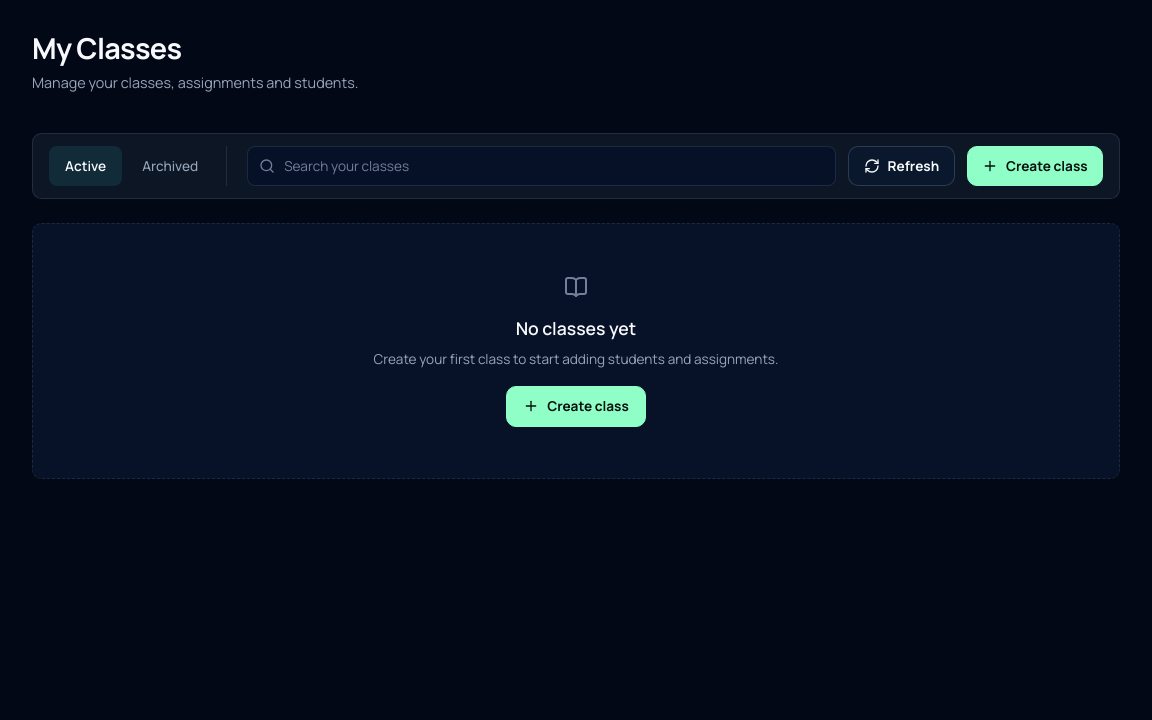
Test: teacher class creation › keeps the dialog open and presents API errors
Click the 1st button "Create class" at [1035, 166], box top-left (967, 146), bottom-right (1103, 186)
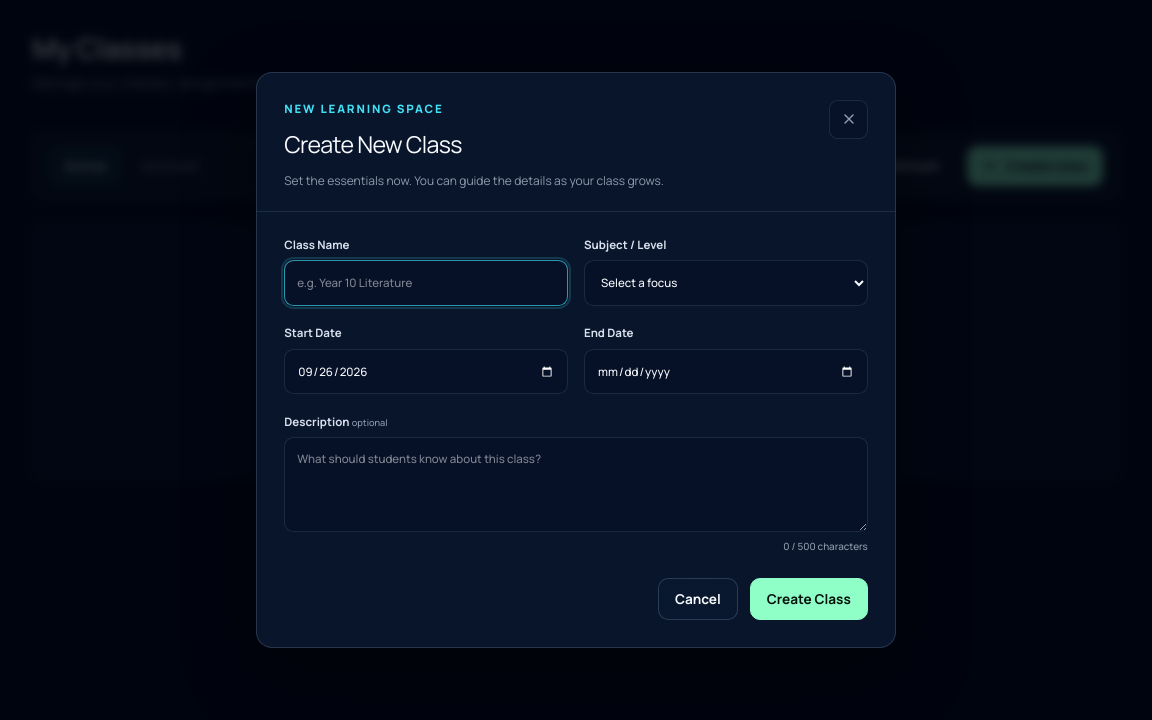
Type "Year 10 Literature" into the field labelled "Class Name" at [426, 283], box top-left (284, 260), bottom-right (568, 306)
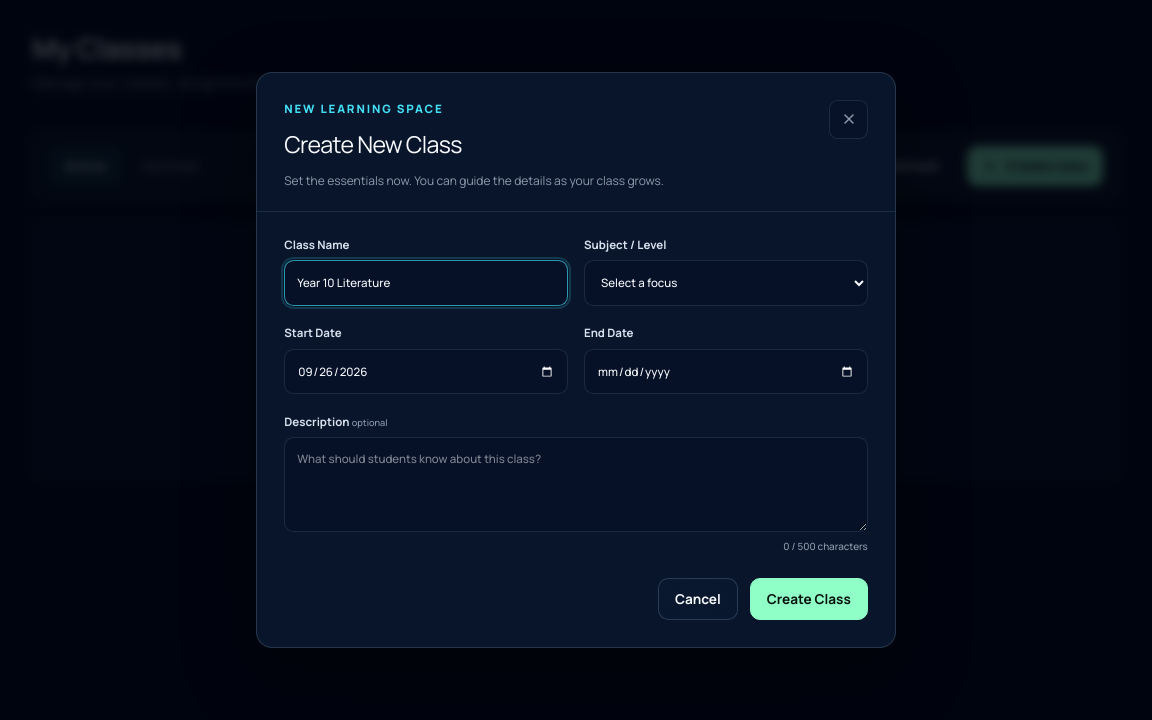
Select "English Literature" in the dropdown labelled "Subject / Level" at [726, 283], box top-left (584, 260), bottom-right (868, 306)
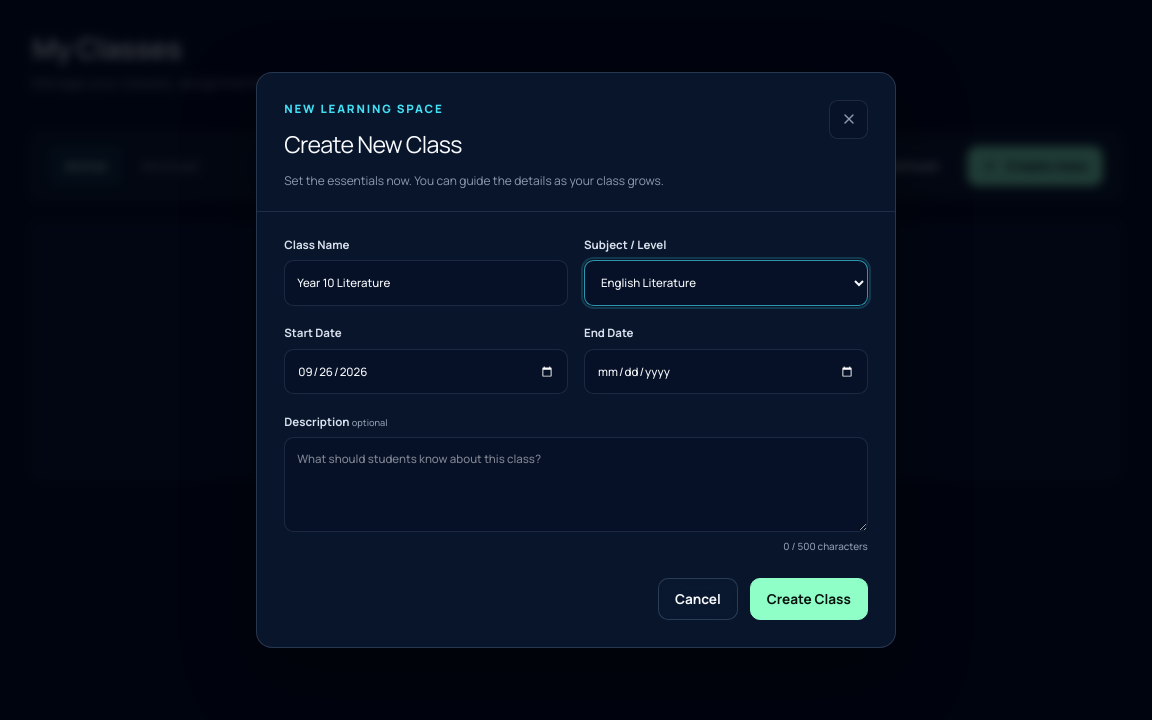
Click the button "Create Class" at [809, 599], box top-left (750, 578), bottom-right (868, 620)
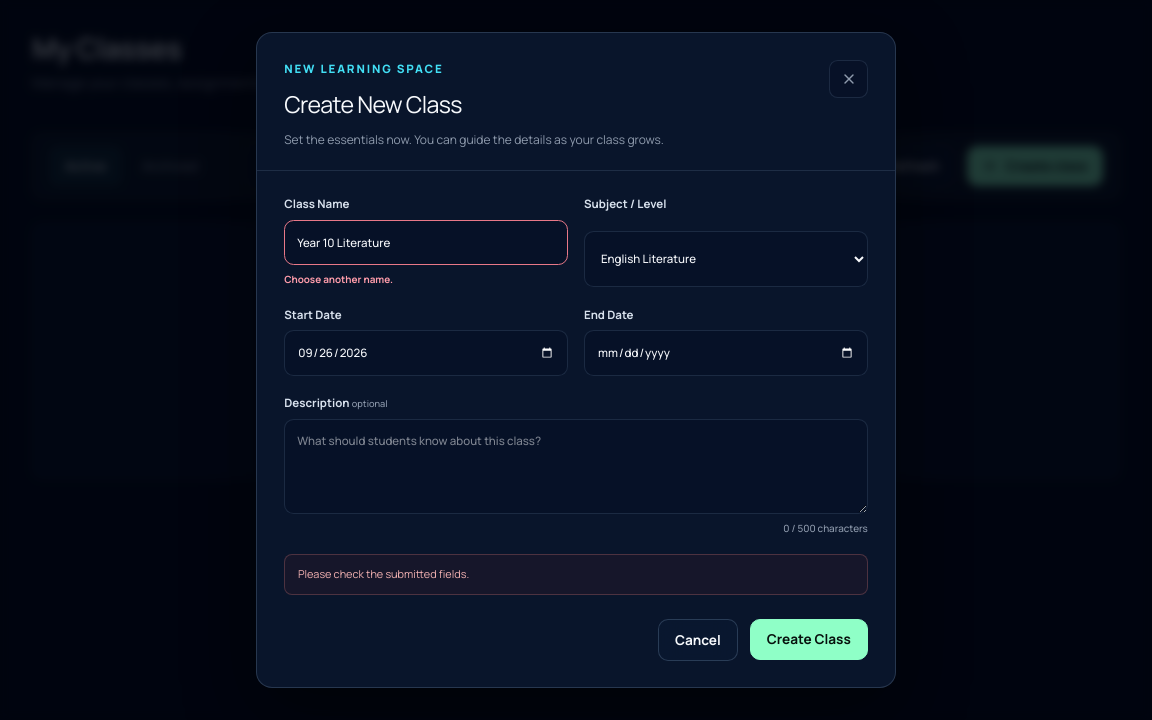
Expected: the dialog is shown, top-left (256, 32), bottom-right (896, 688)
Expected: the message shows "submitted fields", top-left (298, 566), bottom-right (469, 581)
Expected: the text "Choose another name." is shown, top-left (284, 272), bottom-right (393, 286)
